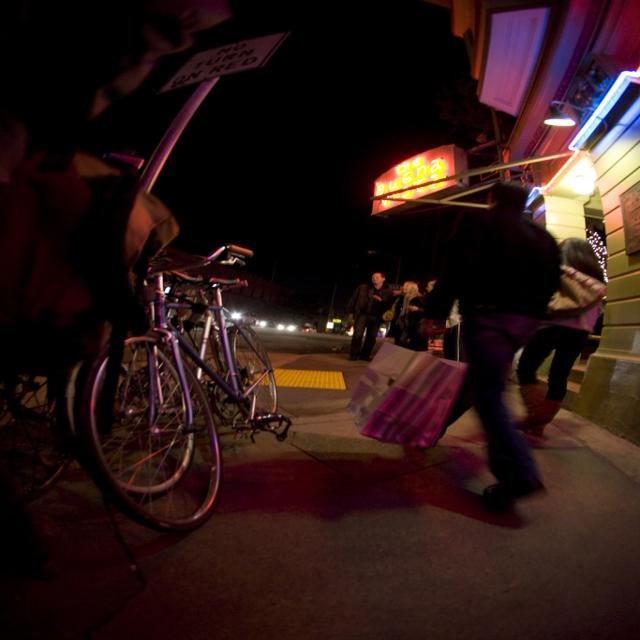Bicycle: (5, 235, 282, 531)
People: (428, 175, 554, 514), (538, 227, 629, 409)
